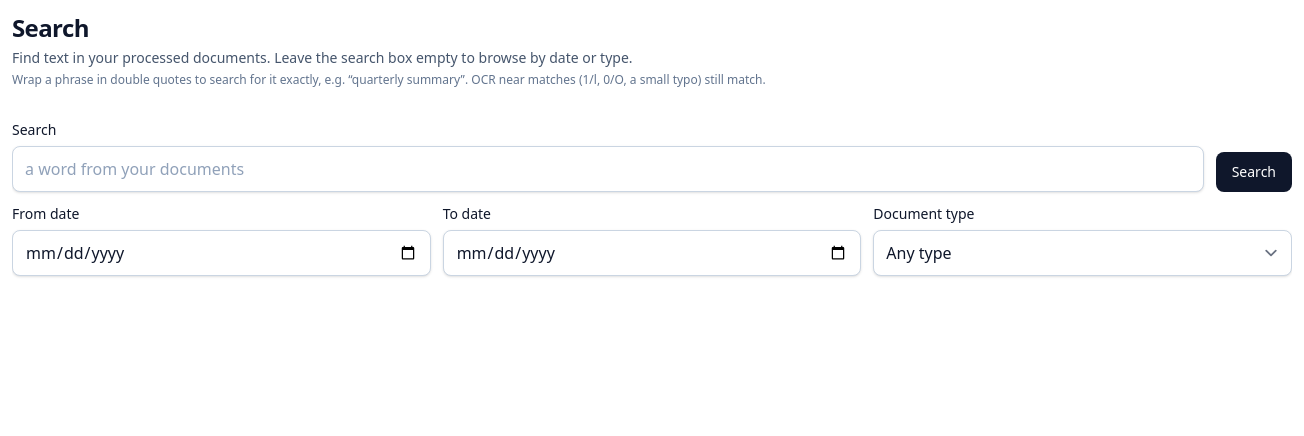
Test: flags snippets that come from corrected regions
The width and height of the screenshot is (1304, 436).
Type "quarterly" into the field labelled "Search" at (608, 169), box [12,146,1204,192]
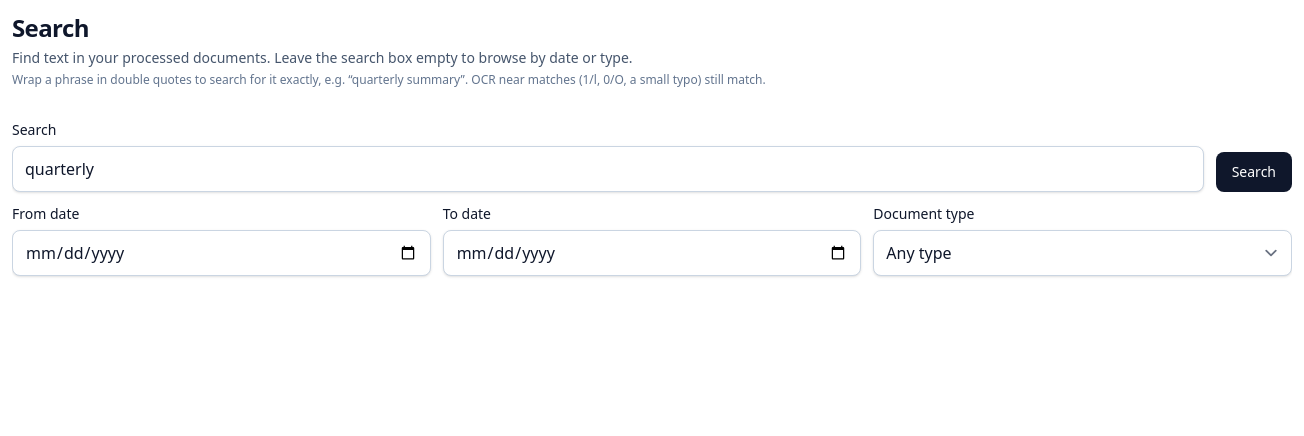
Click the button "Search" at (1254, 172), box [1216,152,1292,192]
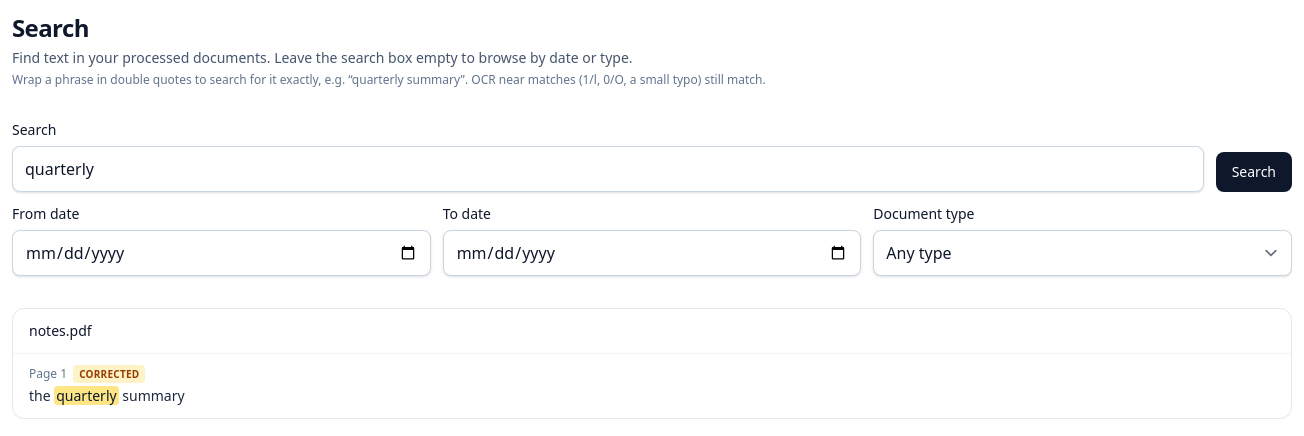
Check: the text "corrected" is shown, box [73,365,145,383]
